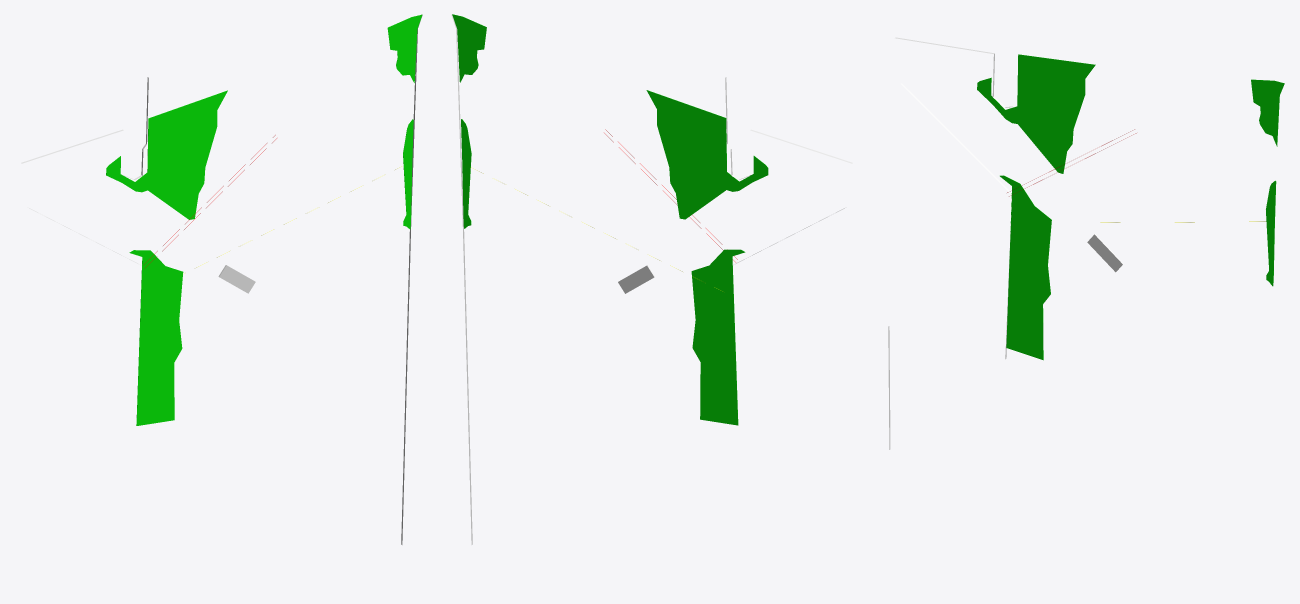
The model's file is otoshima.glb.
3 views of the same model, side by side, from view 1: azimuth 30°, elevation 25°; view 2: azimuth 150°, elevation 25°; view 3: azimuth 330°, elevation 25° (orthographic). The views are drawn at different scales.
Visible parts, largest first — view 1: 3D ソリッド (×4), EXTRUDEDSURFACE; view 2: 3D ソリッド (×4), EXTRUDEDSURFACE; view 3: 3D ソリッド (×4), EXTRUDEDSURFACE.
Part boxes in pixels (bbox=[...]): 3D ソリッド (×4): bbox=[106, 14, 422, 425]; EXTRUDEDSURFACE: bbox=[401, 14, 422, 544]; 3D ソリッド (×4): bbox=[452, 14, 768, 425]; EXTRUDEDSURFACE: bbox=[451, 14, 472, 544]; 3D ソリッド (×4): bbox=[977, 54, 1284, 360]; EXTRUDEDSURFACE: bbox=[888, 83, 1011, 449].
Bounding box in the file's own units: 2005 × 2491 × 36.95.
